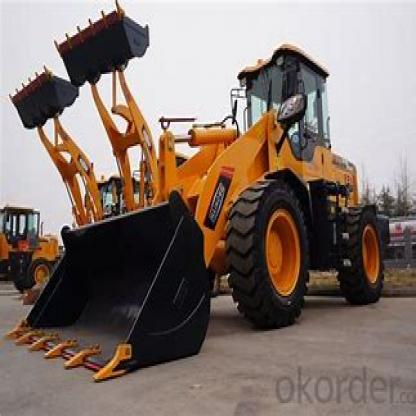bull_dozer/loader/grader: (24, 37, 414, 390)
